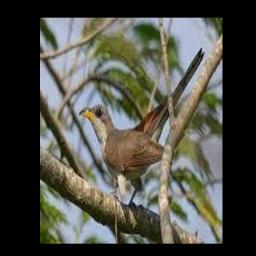Cuckoo: (78, 48, 204, 207)
